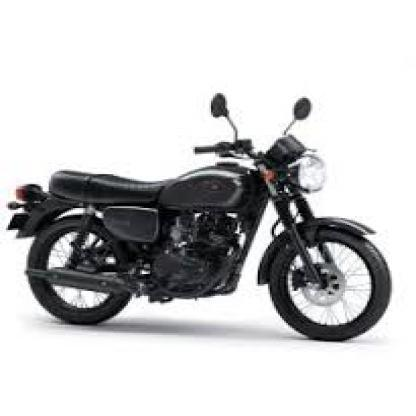Motorcycle: (3, 78, 398, 349)
